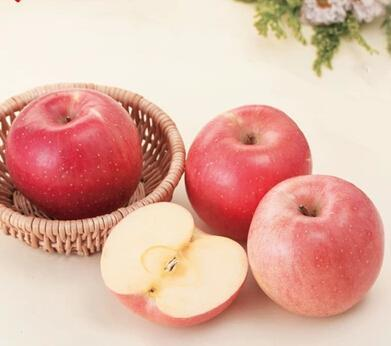apple: (247, 175, 385, 316), (6, 87, 148, 220), (183, 102, 313, 242)
